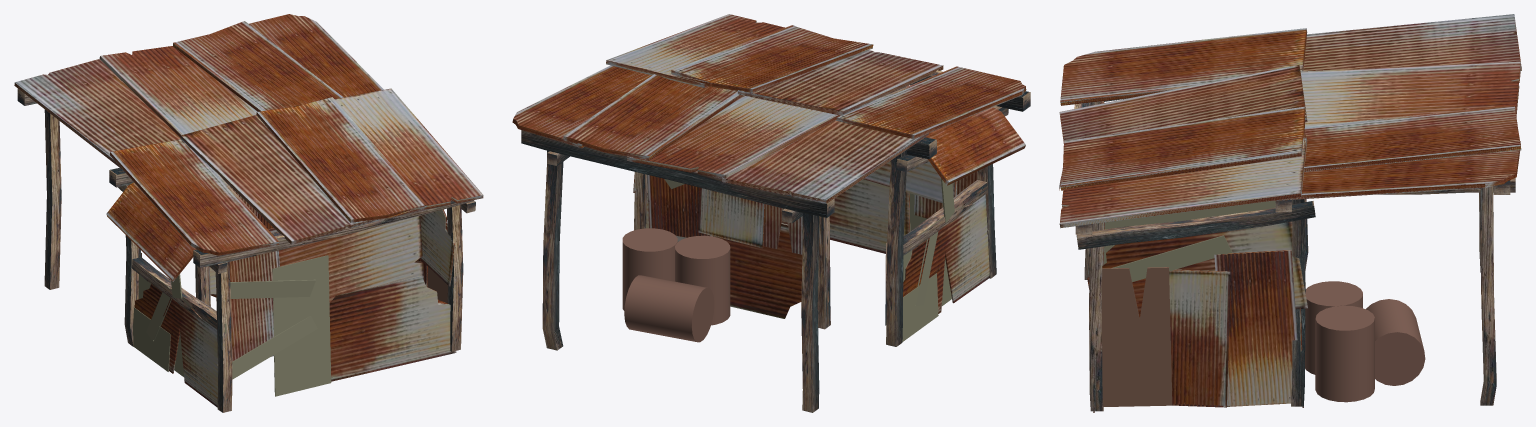
File: river-shack.zfix-v14.lod0.glb
3 views of the same model, side by side, from view 1: azimuth 30°, elevation 25°; view 2: azimuth 150°, elevation 25°; view 3: azimuth 270°, elevation 25° (orthographic). The views are drawn at different scales.
Visible parts, largest first — view 1: pCube1_lambert2_0, pCube4_lambert4_0, pasted__pCube3_pasted__lambert3_0; view 2: pCube1_lambert2_0, pCube4_lambert4_0, pasted__pCube3_pasted__lambert3_0; view 3: pCube1_lambert2_0, pasted__pCube3_pasted__lambert3_0, pCube4_lambert4_0.
Part boxes in pixels (x1,y1,x2,y2): pCube1_lambert2_0: (14, 14, 483, 407); pCube4_lambert4_0: (17, 88, 475, 412); pasted__pCube3_pasted__lambert3_0: (133, 223, 447, 396); pCube1_lambert2_0: (512, 14, 1026, 318); pCube4_lambert4_0: (521, 17, 1030, 412); pasted__pCube3_pasted__lambert3_0: (622, 178, 963, 342); pCube1_lambert2_0: (1059, 14, 1521, 412); pasted__pCube3_pasted__lambert3_0: (1102, 201, 1425, 406); pCube4_lambert4_0: (1074, 98, 1515, 411).
Bounding box in the file's own units: 4.47 × 2.96 × 5.
Materials: 3 (2 with a texture image).
